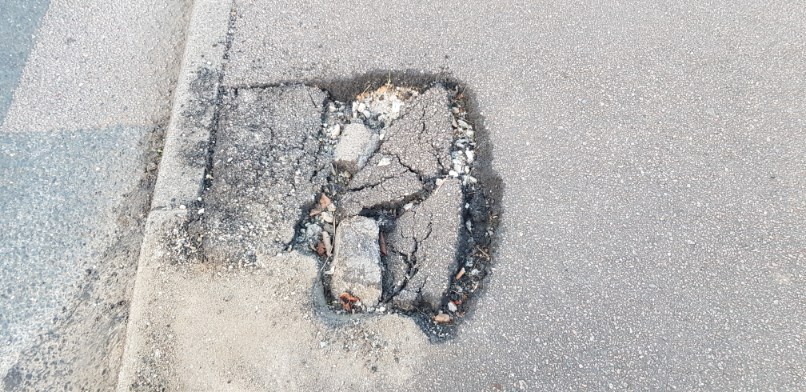pothole: (187, 61, 509, 346)
